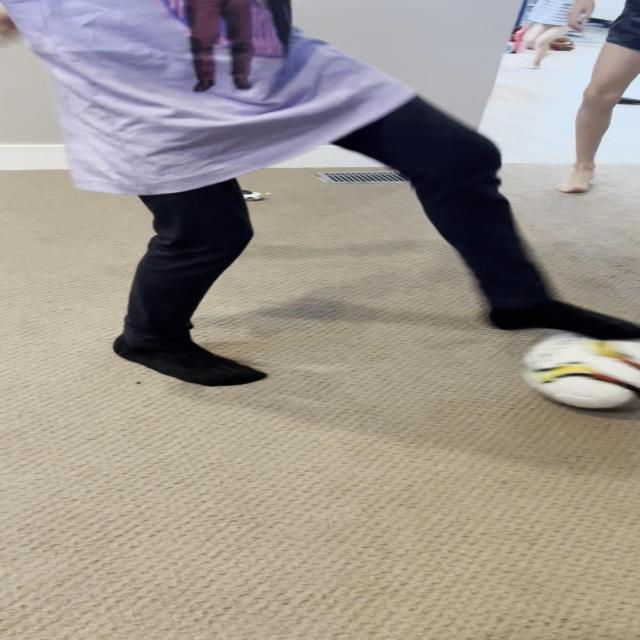Soccer Ball: (524, 328, 640, 409)
